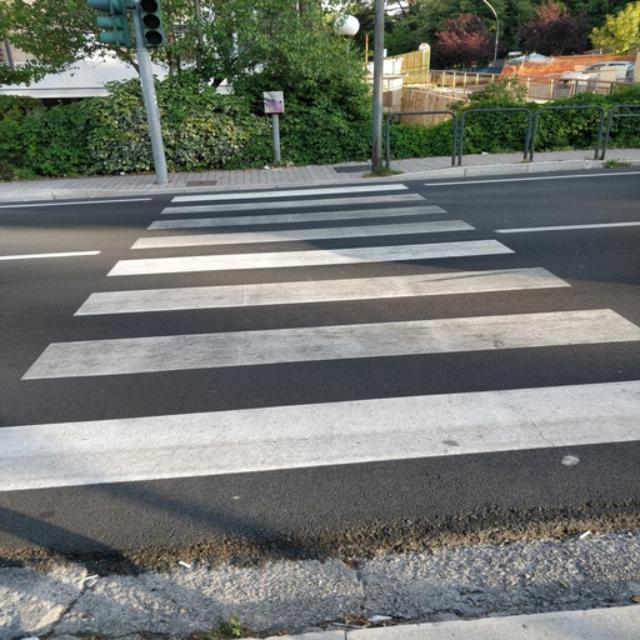sidewalk: (0, 182, 640, 499)
